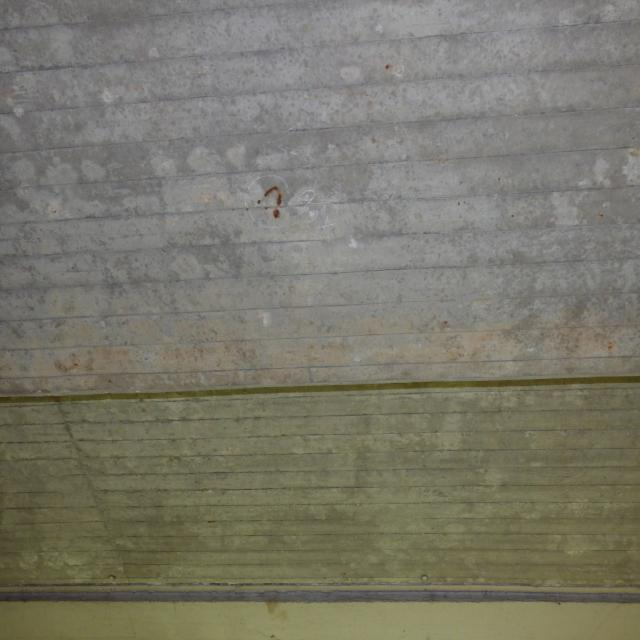corrosion: (256, 172, 292, 225), (382, 57, 398, 75)
